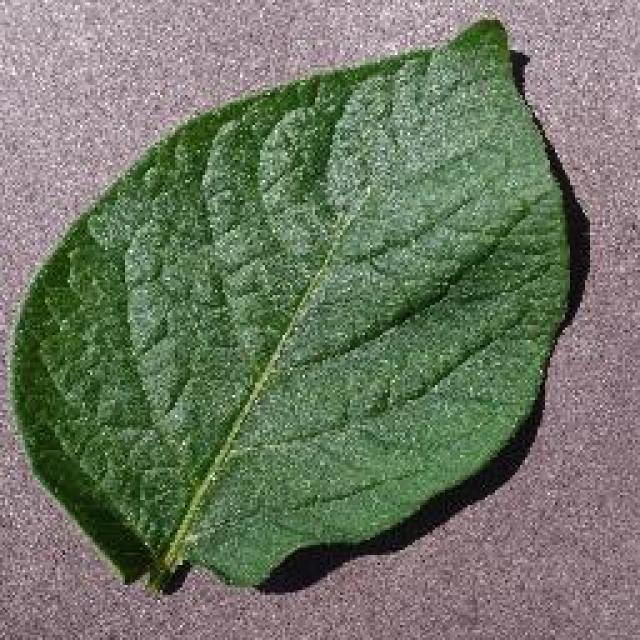Potato: (5, 15, 583, 595)
